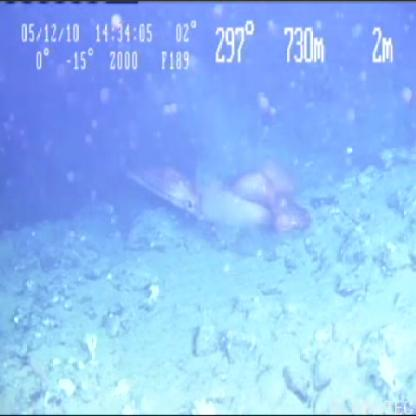Bio: (117, 150, 315, 248)
